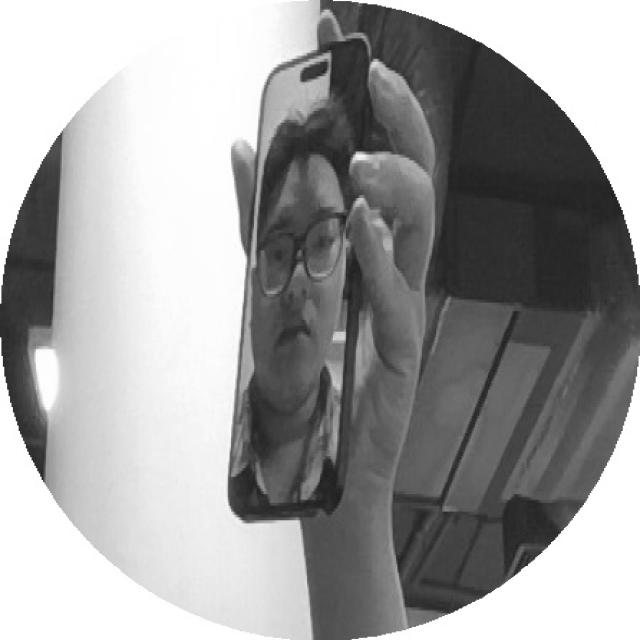fake: (210, 27, 395, 526), (219, 33, 377, 533)
